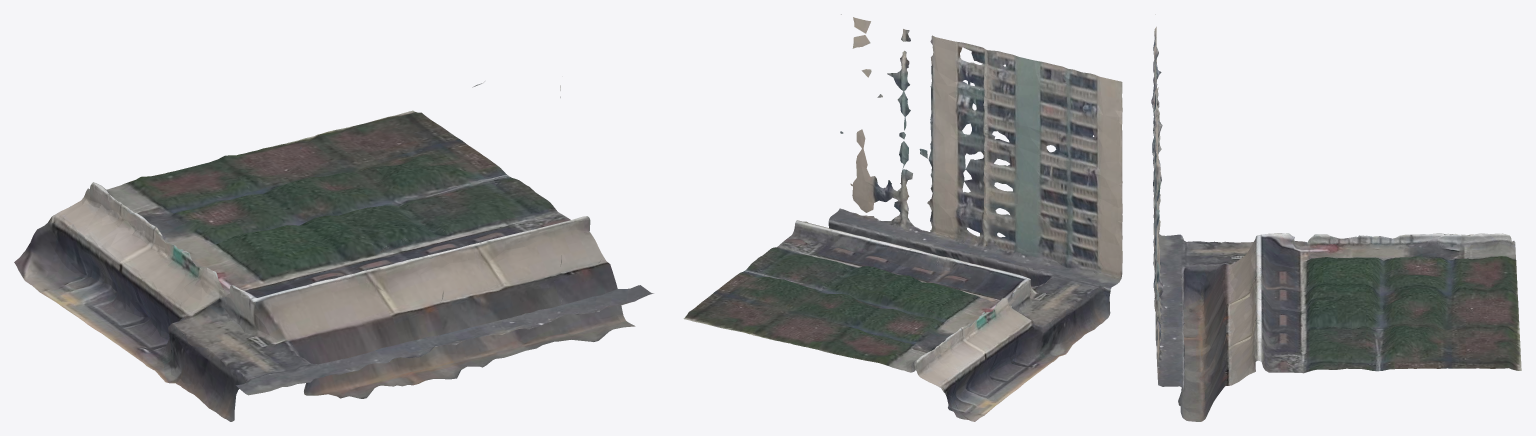
File: Tile_+011_+009_L21_0000012200.glb
3 renders of one model, left to right at view 1: azimuth 30°, elevation 25°; view 2: azimuth 150°, elevation 25°; view 3: azimuth 270°, elevation 25°, orthographic. The views are drawn at different scales.
Parts seen in each view (by area): view 1: rtc; view 2: rtc; view 3: rtc.
Part boxes in pixels (box(x1,y1,x2,y2)): rtc: box(14, 81, 653, 421); rtc: box(683, 14, 1122, 421); rtc: box(1151, 14, 1521, 421).
Bounding box in the file's own units: 32.01 × 24.45 × 31.94.
1 material, 1 textured.
